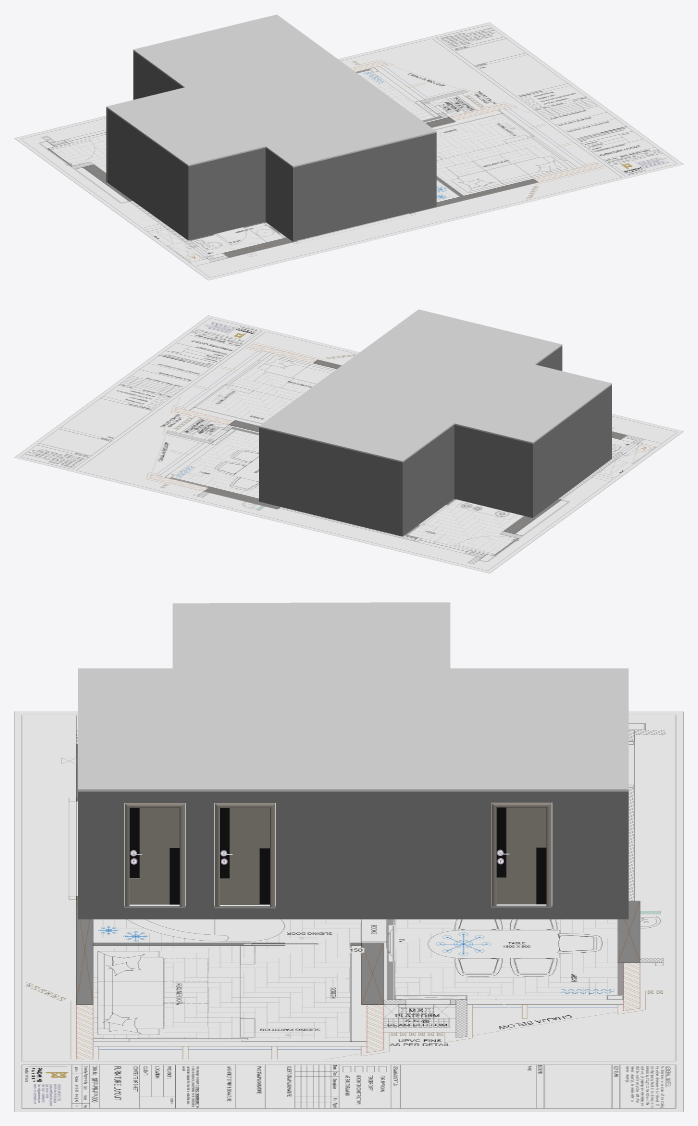
The model's file is modified_model (23).glb.
3 renders of one model, top to bottom at view 1: azimuth 30°, elevation 25°; view 2: azimuth 150°, elevation 25°; view 3: azimuth 270°, elevation 25°, orthographic. The views are drawn at different scales.
Bounding box in the file's own units: 18.44 × 2.79 × 13.04.
36 materials, 1 textured.
